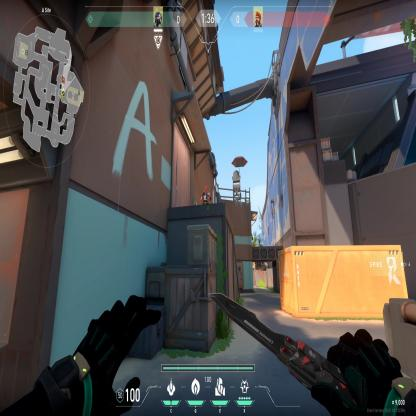enemy: (200, 184, 210, 206)
